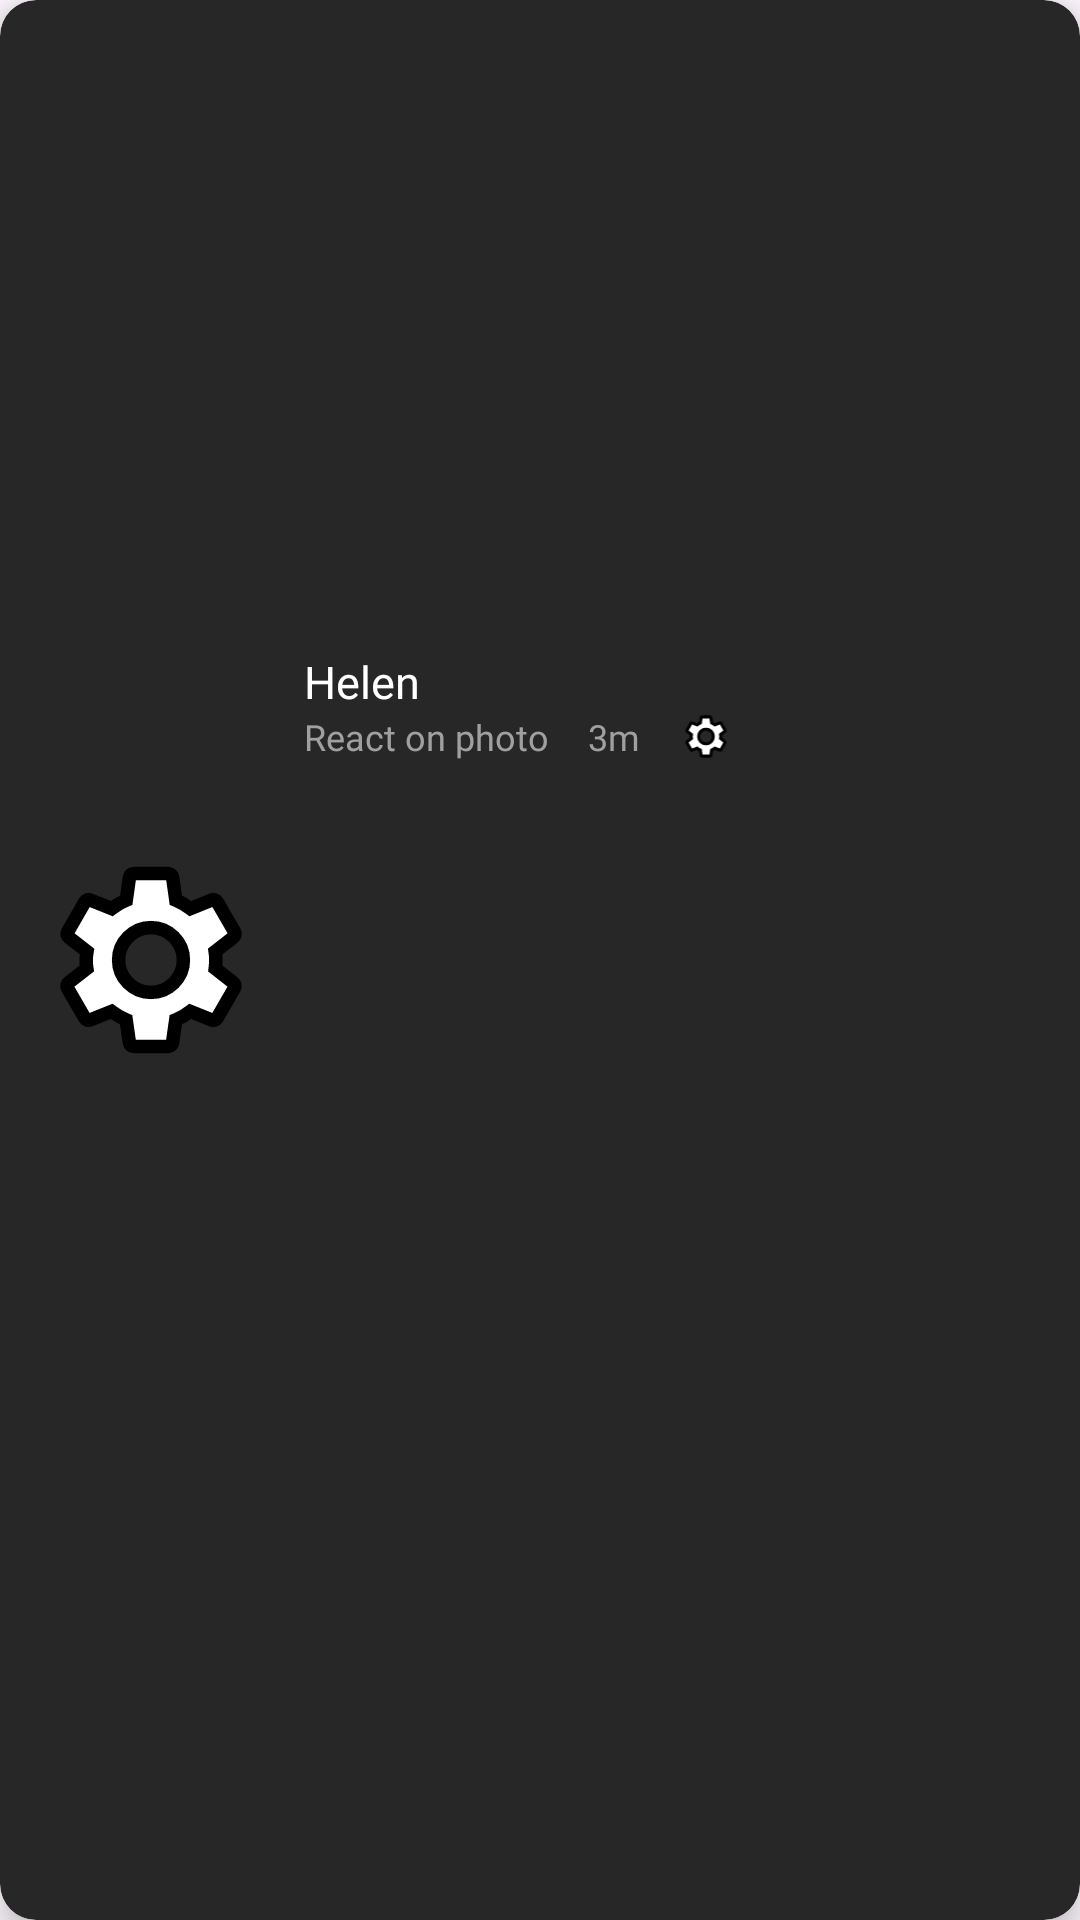

Screen size 1080*1920. Icon name, then its box in pixels as [x1,y1,x2,y2]:
setting: [686,715,726,758], [60,867,242,1053]
